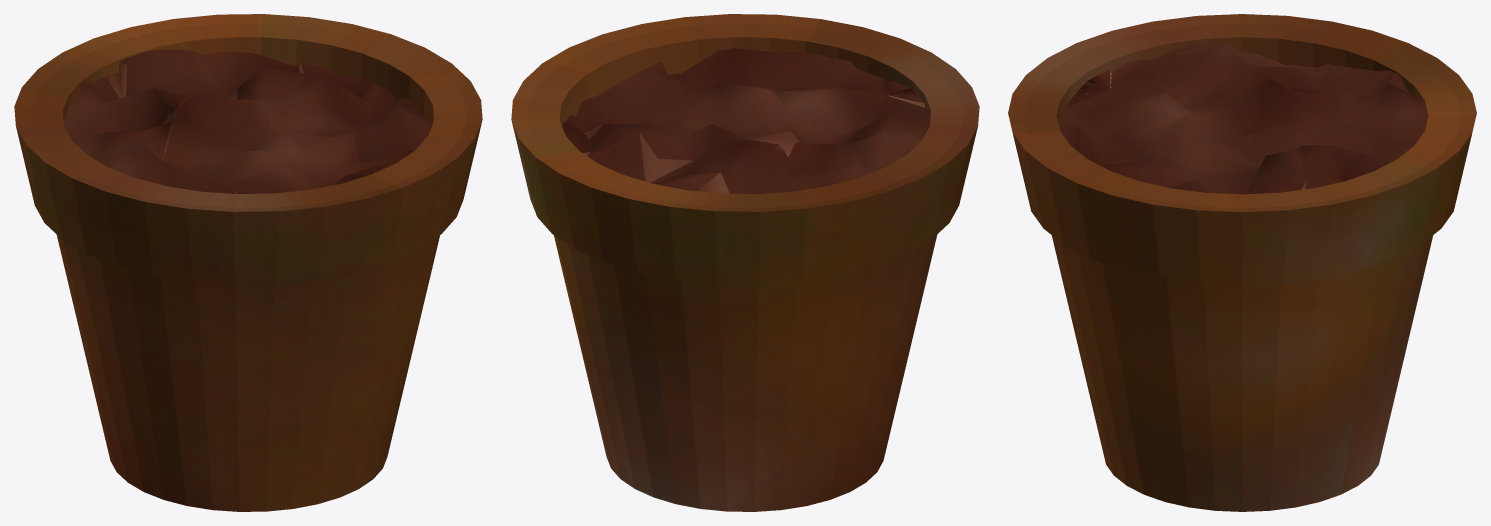
The model's file is maceta.fbx.
3 views of the same model, side by side, from view 1: azimuth 30°, elevation 25°; view 2: azimuth 150°, elevation 25°; view 3: azimuth 270°, elevation 25° (orthographic).
Visible parts, largest first — view 1: Cylinder.001; view 2: Cylinder.001; view 3: Cylinder.001.
Boxes of the visible parts, x1=… form: Cylinder.001: x1=14, y1=14, x2=482, y2=511; Cylinder.001: x1=511, y1=14, x2=979, y2=511; Cylinder.001: x1=1008, y1=14, x2=1476, y2=511.
Size of the model in its own units: 21.41 by 17.46 by 21.41.
1 material, 1 textured.
